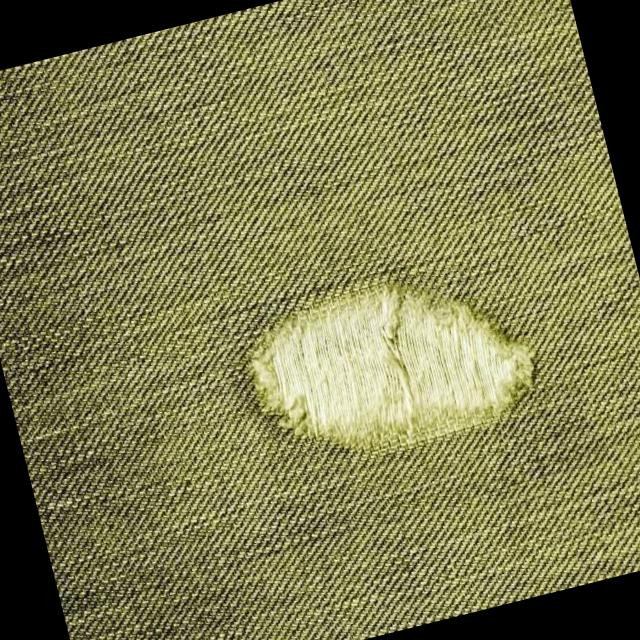hole: (239, 255, 545, 478)
